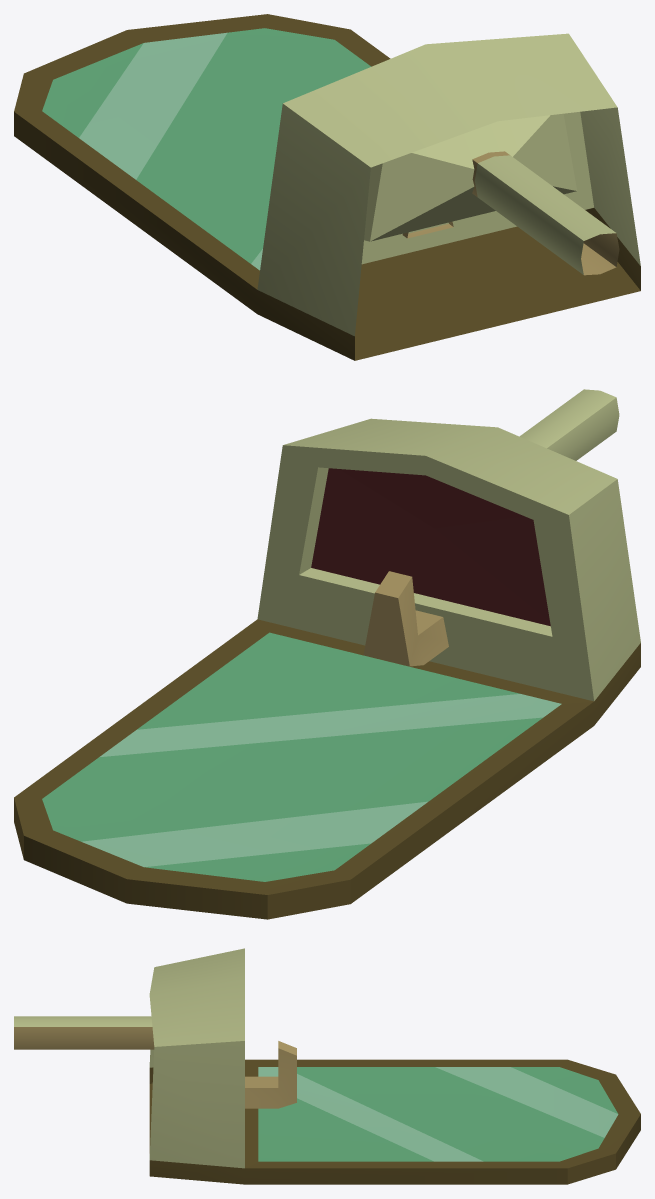
The model's file is Sink 01.FBX.
3 renders of one model, top to bottom at view 1: azimuth 30°, elevation 25°; view 2: azimuth 150°, elevation 25°; view 3: azimuth 270°, elevation 25°, orthographic. The views are drawn at different scales.
Parts seen in each view (by area): view 1: Sink 01; view 2: Sink 01, Sink 01 Blood; view 3: Sink 01.
Boxes of the visible parts, x1=… form: Sink 01: x1=14, y1=14, x2=640, y2=360; Sink 01: x1=14, y1=389, x2=640, y2=919; Sink 01 Blood: x1=311, y1=468, x2=550, y2=626; Sink 01: x1=14, y1=948, x2=640, y2=1184.
Size of the model in its own units: 80.77 by 52.48 by 197.
